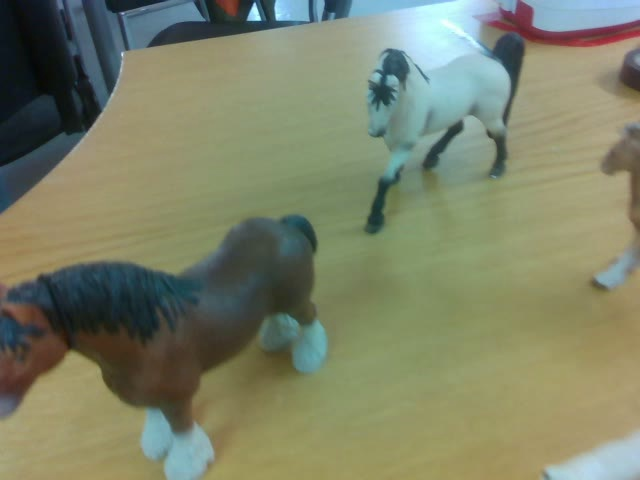toy: (1, 213, 328, 476), (362, 32, 527, 234)
